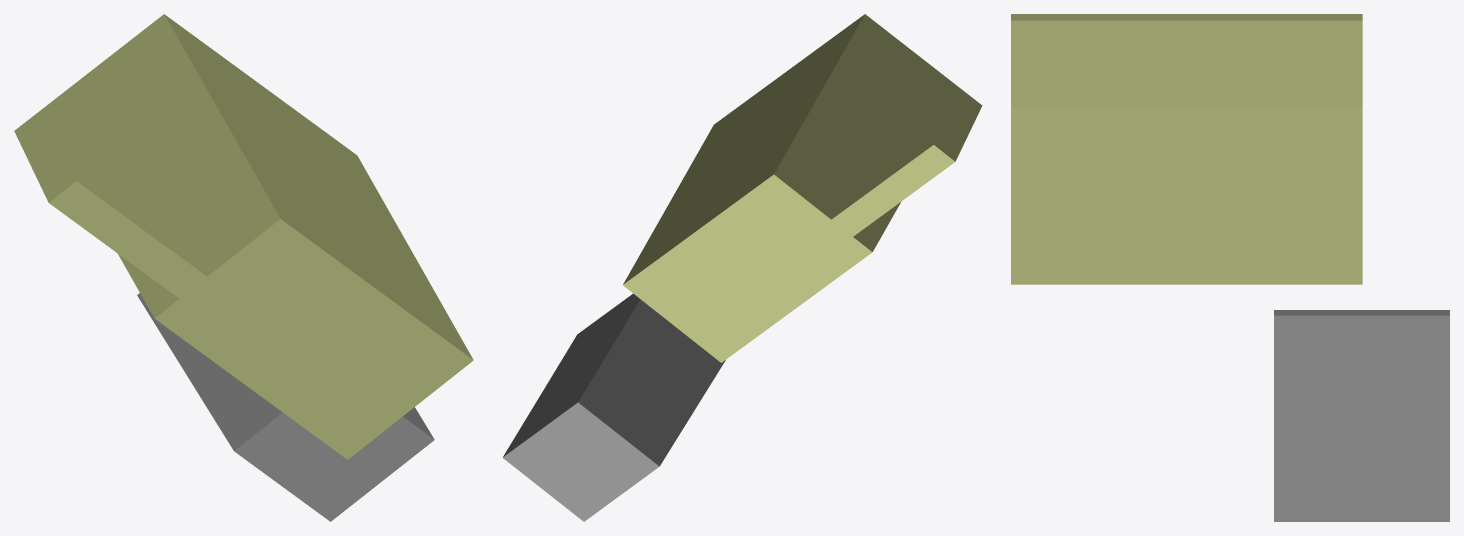
The picture shows the model from 3 angles, left to right: view 1: azimuth 30°, elevation 25°; view 2: azimuth 150°, elevation 25°; view 3: azimuth 270°, elevation 25°; orthographic projection. The views are drawn at different scales.
Visible parts, largest first — view 1: 0_1_1_3_2_2_3_1_0_3_3; view 2: 0_1_1_3_2_2_3_1_0_3_3; view 3: 0_1_1_3_2_2_3_1_0_3_3.
Boxes of the visible parts, x1,y1,x2,y2 form: 0_1_1_3_2_2_3_1_0_3_3: (14,14,473,521); 0_1_1_3_2_2_3_1_0_3_3: (502,14,982,521); 0_1_1_3_2_2_3_1_0_3_3: (1011,14,1449,521).
Size of the model in its own units: 6.67 by 8.58 by 7.49.
